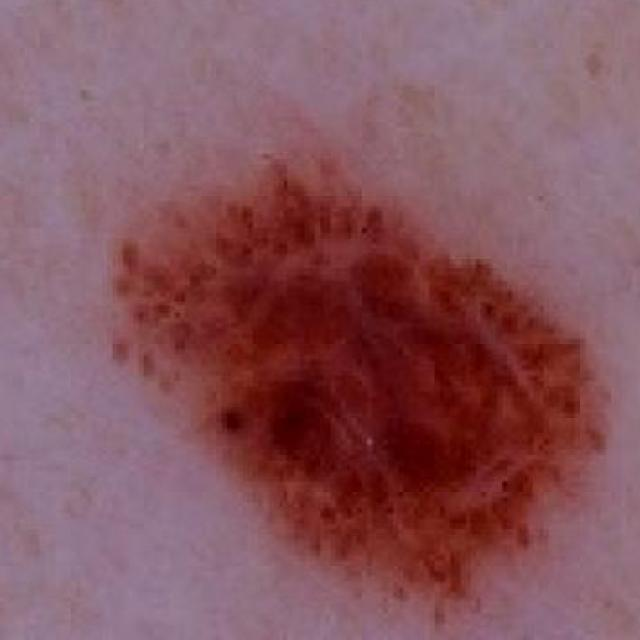MEL: (62, 74, 640, 640)
